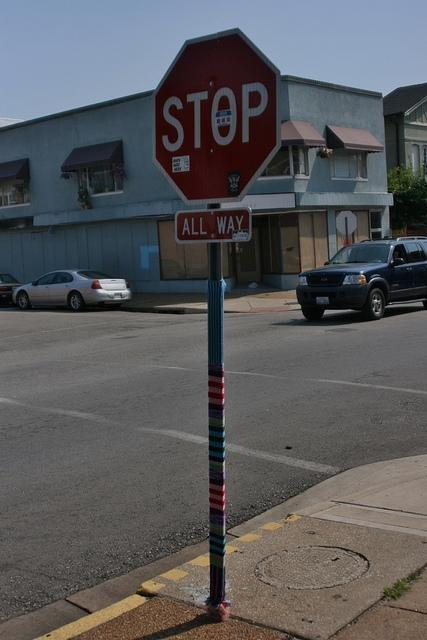car: (296, 235, 427, 322), (12, 267, 131, 311), (0, 272, 22, 304)
